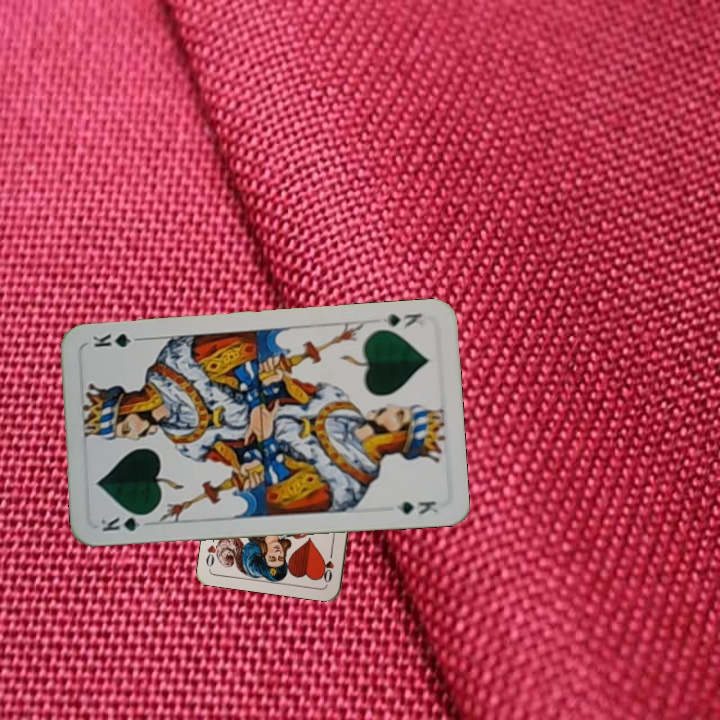GK: (96, 510, 153, 534), (379, 309, 424, 331)
HO: (320, 545, 337, 585)
